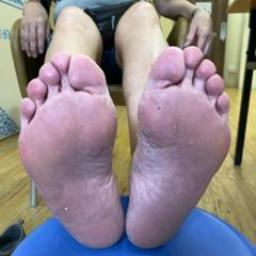Plantar View -Both Feet-: (1, 34, 250, 255)
